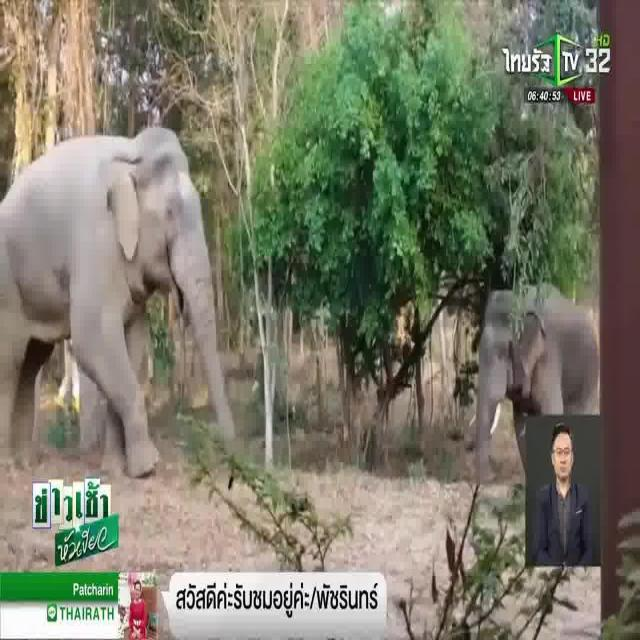Elephant: (0, 125, 227, 455), (474, 279, 589, 450)
